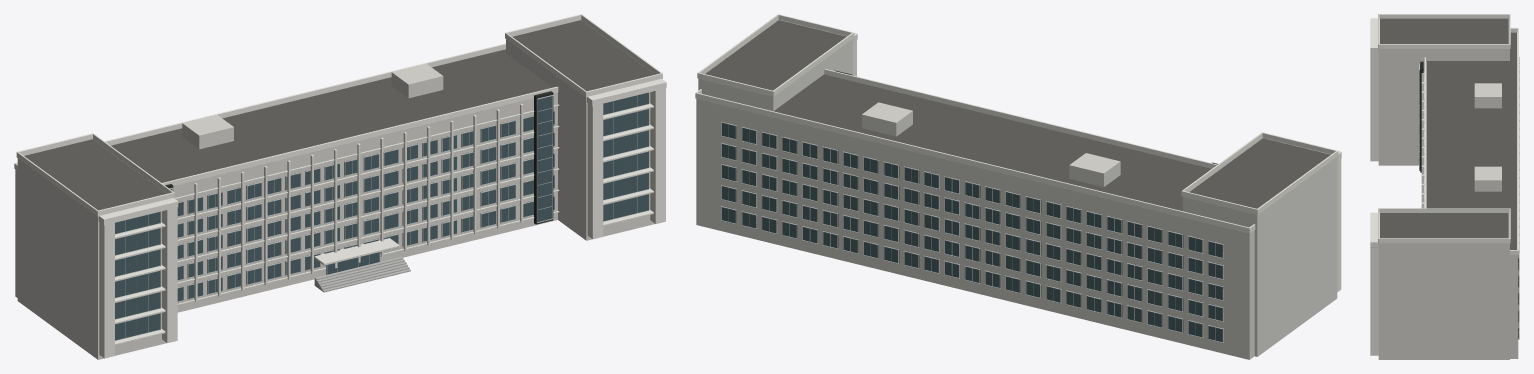
3 views of the same model, side by side, from view 1: azimuth 30°, elevation 25°; view 2: azimuth 150°, elevation 25°; view 3: azimuth 270°, elevation 25° (orthographic). The views are drawn at different scales.
Parts seen in each view (by area): view 1: original-long-block__stone, extension-wings__stone, original-roof__roof, original-front-windows__glass, wing-roof__roof, extension-glass__glass, extension-side-frames__trim, original-front-windows__frame, front-grid-columns__trim, original-roof__trim, horizontal-bands__trim, wing-roof__trim (+11 smaller); view 2: original-long-block__stone, estimated-rear-windows__glass, original-roof__roof, extension-wings__stone, estimated-rear-windows__frame, wing-roof__roof, original-roof__trim, wing-roof__trim, estimated-roof-access__stone, estimated-rear-windows__dark, extension-side-frames__trim; view 3: extension-wings__stone, original-roof__roof, wing-roof__roof, wing-roof__trim, extension-side-frames__trim, estimated-roof-access__stone, original-long-block__stone, original-roof__trim, extension-top-frames__trim, front-grid-columns__trim, estimated-rear-windows__frame, stair-glazed-joints__dark (+2 smaller).
Part boxes in pixels (box(x1,y1,x2,y2)): original-long-block__stone: box(15, 92, 557, 312); extension-wings__stone: box(17, 39, 654, 359); original-roof__roof: box(111, 49, 552, 182); original-front-windows__glass: box(177, 111, 554, 301); wing-roof__roof: box(24, 20, 654, 210); extension-glass__glass: box(115, 92, 648, 340); extension-side-frames__trim: box(99, 88, 665, 358); original-front-windows__frame: box(177, 110, 555, 302); front-grid-columns__trim: box(173, 103, 523, 302); original-roof__trim: box(14, 43, 558, 186); horizontal-bands__trim: box(174, 104, 559, 305); wing-roof__trim: box(16, 14, 662, 216); original-long-block__stone: box(696, 98, 1254, 359); estimated-rear-windows__glass: box(722, 123, 1222, 342); original-roof__roof: box(774, 74, 1211, 210); extension-wings__stone: box(698, 39, 1337, 356); estimated-rear-windows__frame: box(721, 121, 1223, 343); wing-roof__roof: box(705, 20, 1330, 208); original-roof__trim: box(695, 69, 1255, 233); wing-roof__trim: box(697, 14, 1338, 214); estimated-roof-access__stone: box(862, 102, 1120, 187); estimated-rear-windows__dark: box(722, 122, 1223, 332); extension-side-frames__trim: box(853, 40, 1341, 291); extension-wings__stone: box(1378, 19, 1509, 359); original-roof__roof: box(1426, 32, 1516, 249); wing-roof__roof: box(1380, 18, 1508, 238); wing-roof__trim: box(1378, 14, 1510, 243); extension-side-frames__trim: box(1370, 53, 1378, 355); estimated-roof-access__stone: box(1474, 83, 1501, 191); original-long-block__stone: box(1426, 33, 1518, 358); original-roof__trim: box(1424, 28, 1518, 254); extension-top-frames__trim: box(1370, 18, 1379, 247); front-grid-columns__trim: box(1421, 73, 1423, 208); estimated-rear-windows__frame: box(1518, 57, 1519, 339); stair-glazed-joints__dark: box(1420, 61, 1423, 172).
Size of the model in its own units: 97.25 by 24.5 by 27.31.
